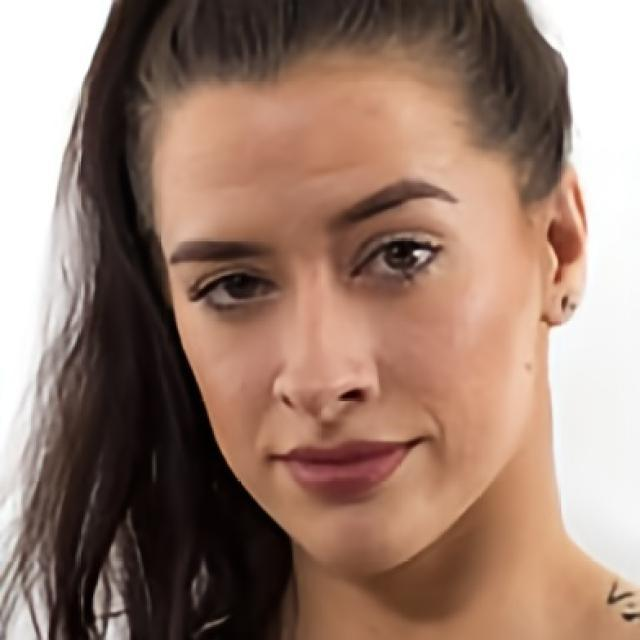content: (157, 51, 536, 568)
